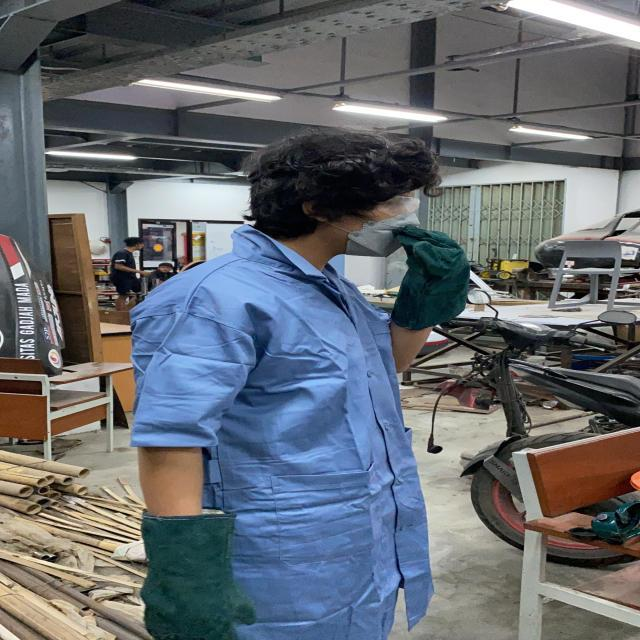glasses: (359, 192, 426, 219)
